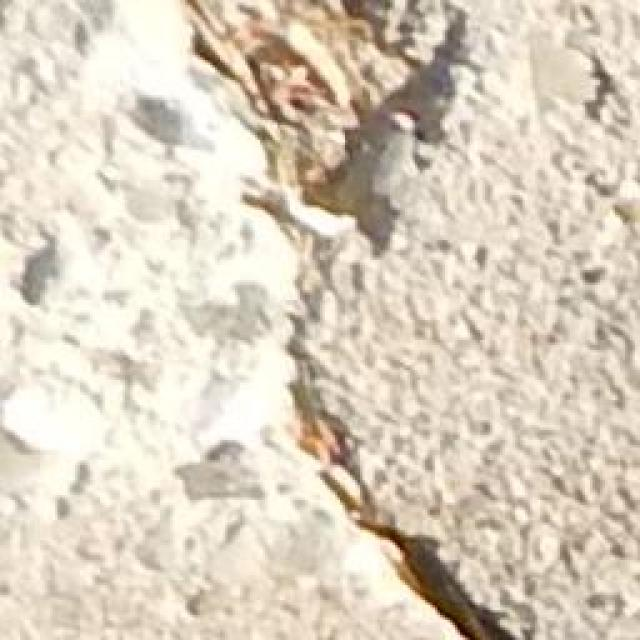concrete-crack: (175, 0, 542, 640)
